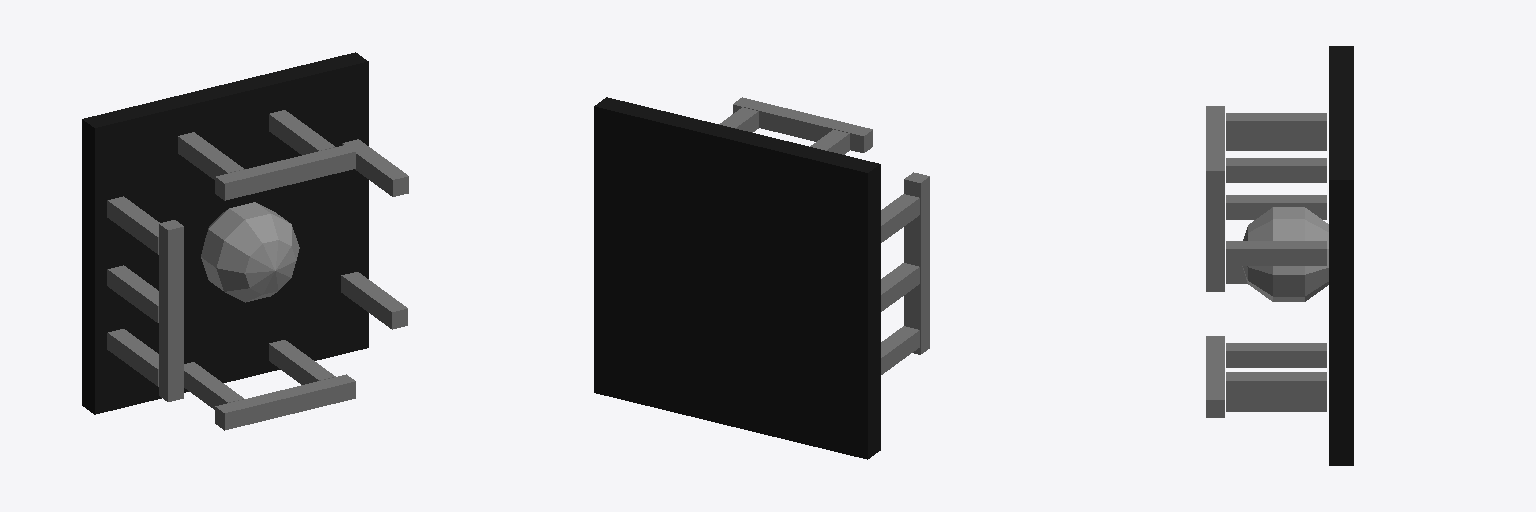
File: escenaAlexandra.obj
3 views of the same model, side by side, from view 1: azimuth 30°, elevation 25°; view 2: azimuth 150°, elevation 25°; view 3: azimuth 270°, elevation 25° (orthographic).
Visible parts, largest first — view 1: Box01, Sphere01, Box09, Box04, Box06, Box13, Box12, Box10, Box08, Box11, Box02, Box05 (+2 smaller); view 2: Box01, Box09, Box04, Box08, Box10, Box11, Box02, Box03; view 3: Box01, Sphere01, Box13, Box02, Box03, Box07, Box12, Box09, Box11, Box04, Box06, Box05 (+1 smaller).
Boxes of the visible parts, box(x1,y1,x2,y2) form: Box01: box(82, 52, 368, 414); Sphere01: box(201, 202, 299, 302); Box09: box(159, 220, 183, 401); Box04: box(215, 145, 355, 200); Box06: box(215, 374, 355, 430); Box13: box(341, 272, 407, 329); Box12: box(342, 139, 408, 196); Box10: box(107, 196, 159, 254); Box08: box(107, 329, 158, 386); Box11: box(107, 265, 158, 322); Box02: box(178, 132, 244, 179); Box05: box(269, 340, 335, 384); Box01: box(594, 97, 880, 459); Box09: box(904, 172, 929, 354); Box04: box(733, 97, 872, 152); Box08: box(881, 326, 919, 374); Box10: box(881, 194, 919, 242); Box11: box(881, 263, 919, 311); Box02: box(810, 129, 849, 154); Box03: box(719, 107, 758, 132); Box01: box(1329, 46, 1353, 465); Sphere01: box(1242, 207, 1328, 301); Box13: box(1226, 372, 1326, 397); Box02: box(1226, 113, 1326, 137); Box03: box(1226, 158, 1326, 182); Box07: box(1226, 343, 1326, 367); Box12: box(1226, 241, 1326, 265); Box09: box(1206, 188, 1224, 291); Box11: box(1226, 195, 1326, 219); Box04: box(1206, 106, 1224, 187); Box06: box(1206, 336, 1224, 417); Box05: box(1226, 398, 1326, 411).
Bounding box in the file's own units: 25 × 25 × 11.71.